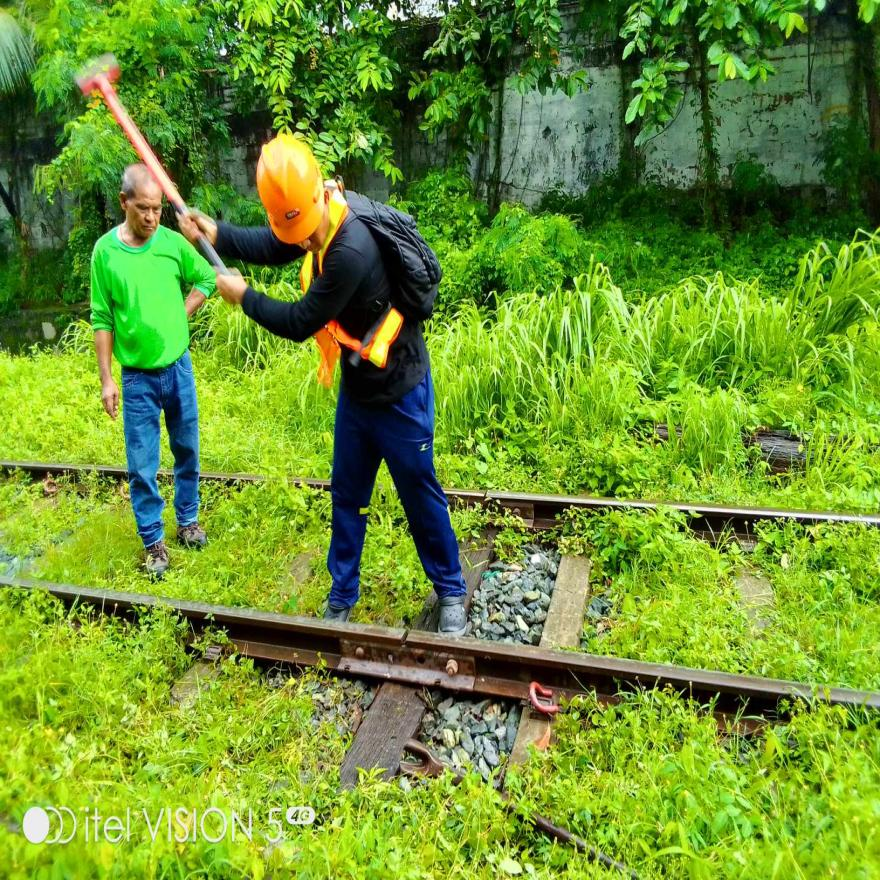railway-gap: (377, 600, 434, 672)
